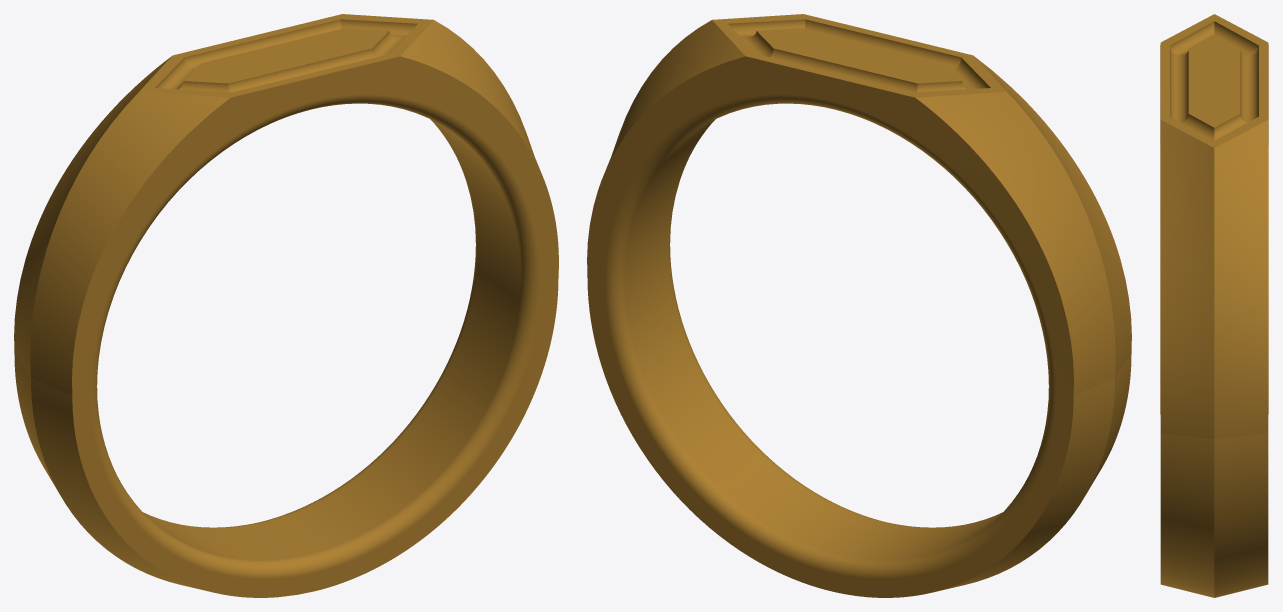
The model's file is ring2.glb.
3 views of the same model, side by side, from view 1: azimuth 30°, elevation 25°; view 2: azimuth 150°, elevation 25°; view 3: azimuth 270°, elevation 25° (orthographic). The views are drawn at different scales.
Parts seen in each view (by area): view 1: 기본값(E3F3F48A-95CD-4A31-85D3-5360DEC77ABF); view 2: 기본값(E3F3F48A-95CD-4A31-85D3-5360DEC77ABF); view 3: 기본값(E3F3F48A-95CD-4A31-85D3-5360DEC77ABF).
Part boxes in pixels (bbox=[...]): 기본값(E3F3F48A-95CD-4A31-85D3-5360DEC77ABF): bbox=[14, 14, 558, 597]; 기본값(E3F3F48A-95CD-4A31-85D3-5360DEC77ABF): bbox=[587, 14, 1131, 597]; 기본값(E3F3F48A-95CD-4A31-85D3-5360DEC77ABF): bbox=[1160, 14, 1268, 597].
Size of the model in its own units: 0.0204 by 0.0201 by 0.00403.
